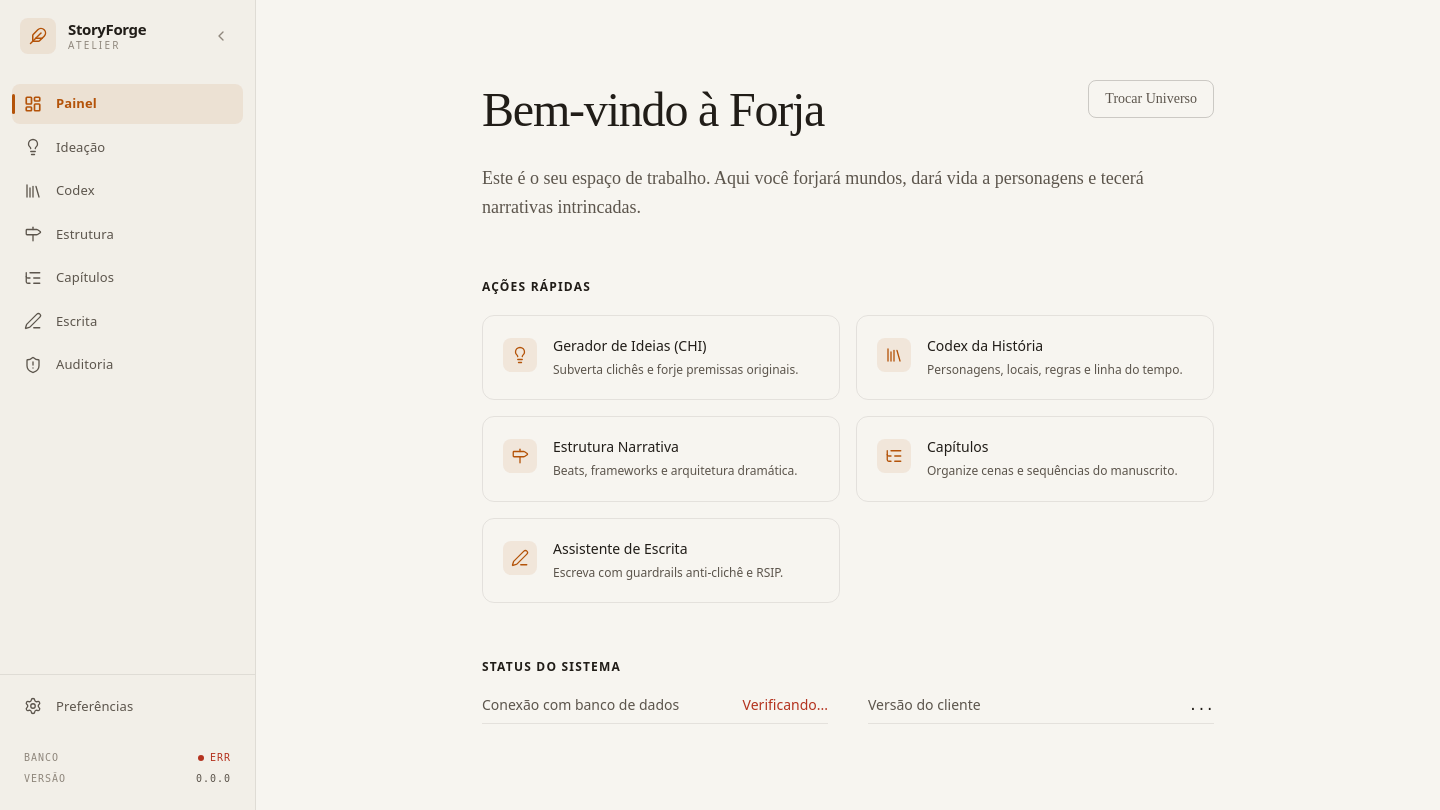
Scenario: App Integration › should handle global navigation via sidebar
Navigate to Codex (target sidebar button specifically)
Step 1. Click the button "Codex" → (128, 191), box [12,171,243,210]
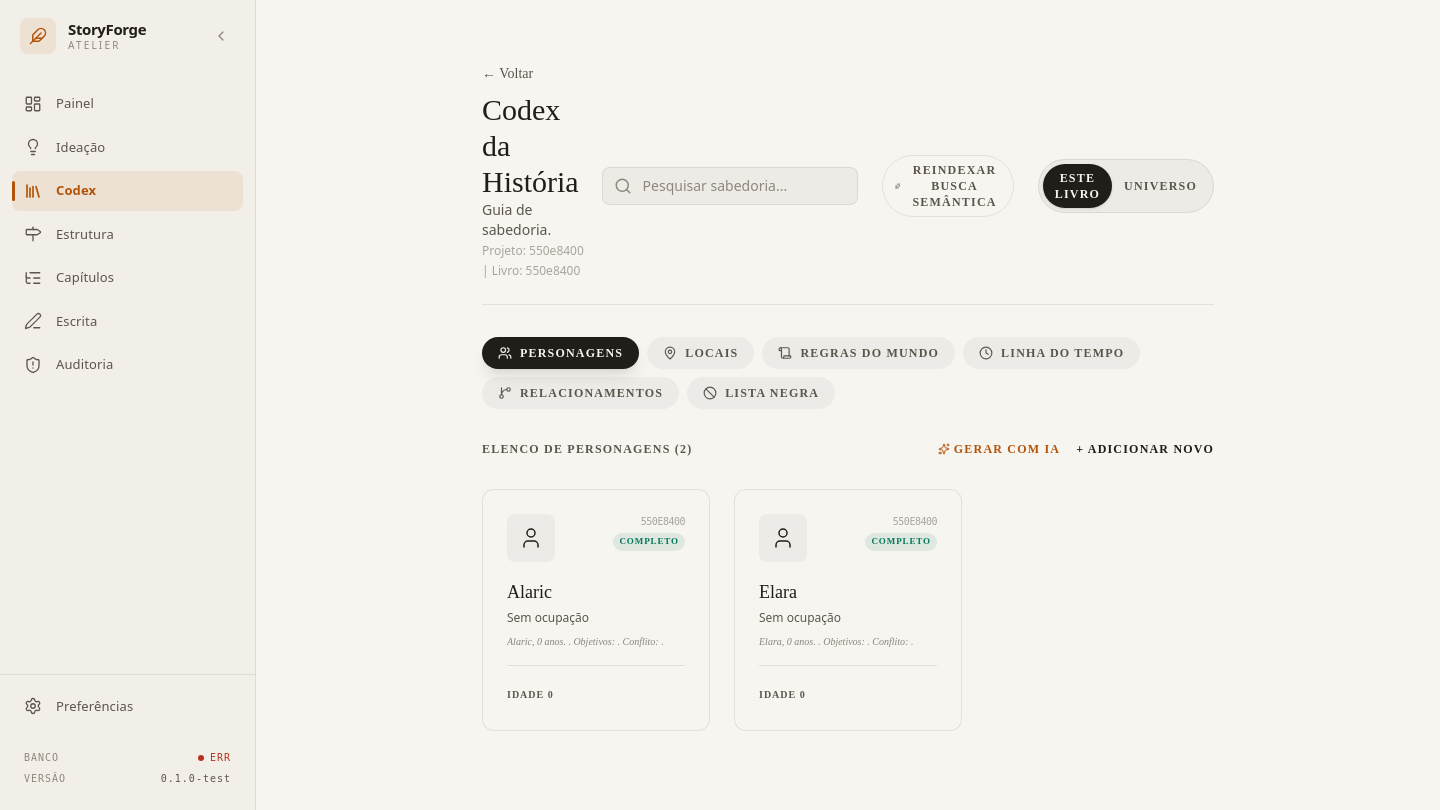
Expected: the heading "Codex da História" is shown, [482,92,586,200]
Expected: the button "Personagens" is shown, [482,337,639,369]
Navigate back to Dashboard via sidebar
Step 2. Click the button "Painel" → (128, 104), box [12,84,243,124]
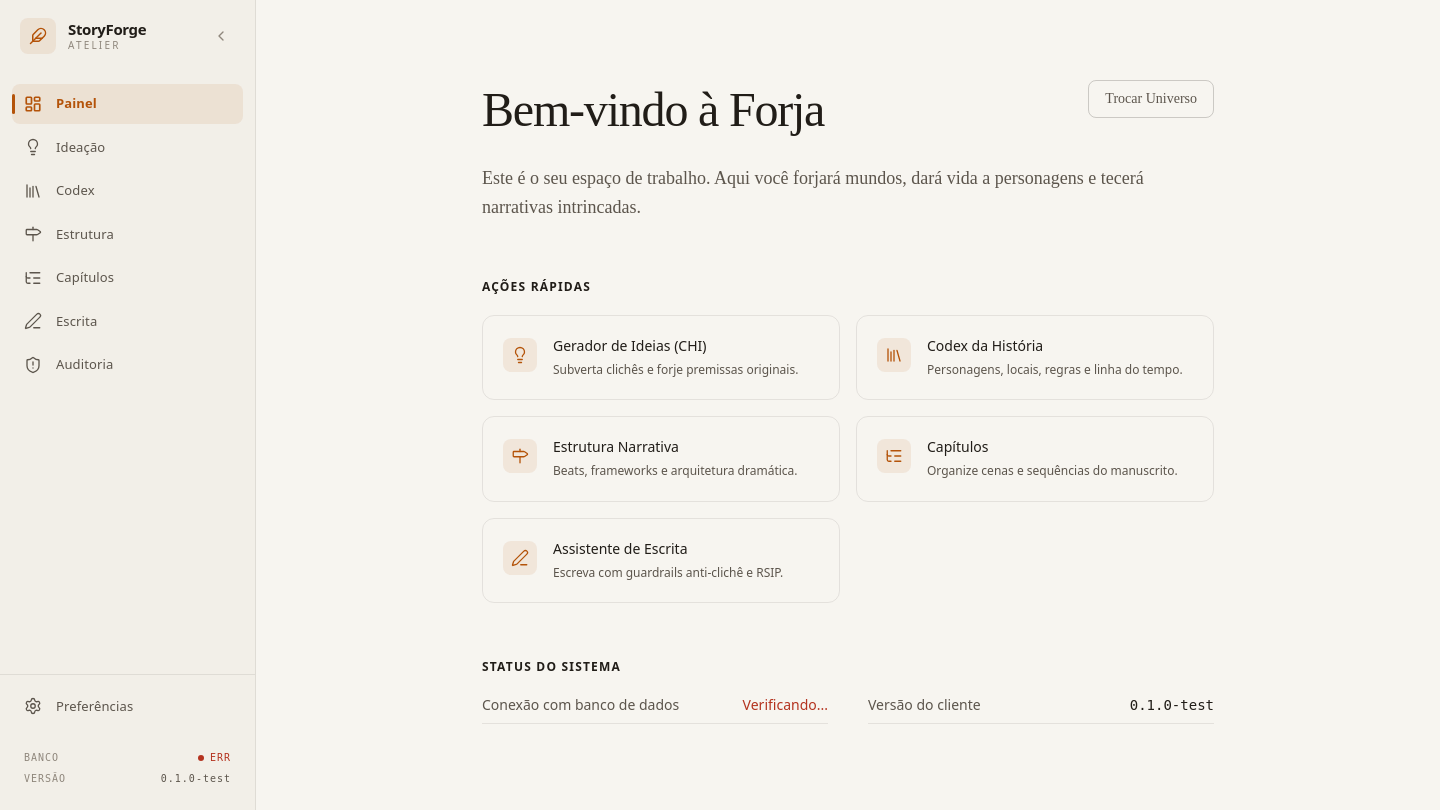
Result: the heading "Bem-vindo à Forja" is shown at [482,80,824,140]
